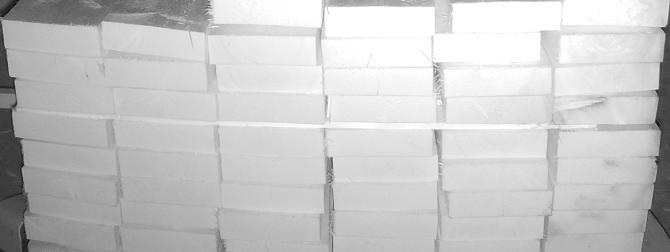Wood-Plank: (102, 22, 204, 60), (1, 19, 99, 56), (24, 212, 116, 251), (562, 29, 666, 63), (12, 109, 107, 146), (555, 91, 660, 124), (434, 32, 541, 64), (104, 57, 206, 90), (556, 62, 661, 94), (22, 168, 115, 204), (220, 210, 321, 243), (6, 50, 104, 84), (453, 2, 563, 32), (113, 88, 215, 120), (21, 140, 116, 174), (444, 160, 548, 191), (445, 66, 552, 96), (118, 150, 217, 182), (218, 92, 323, 122), (15, 80, 113, 112), (324, 38, 432, 67), (208, 36, 317, 64), (326, 8, 435, 36), (113, 122, 213, 152), (325, 67, 434, 94), (334, 182, 438, 210), (220, 128, 324, 156), (216, 65, 323, 92), (443, 132, 549, 159), (212, 0, 322, 26), (222, 156, 324, 184), (560, 129, 661, 157), (222, 184, 323, 212), (329, 96, 436, 122), (27, 194, 119, 224), (564, 0, 670, 26), (447, 96, 552, 122), (327, 130, 432, 156), (121, 178, 218, 206), (334, 212, 438, 238), (559, 157, 659, 184), (334, 156, 437, 182), (449, 192, 553, 217), (556, 184, 654, 210), (122, 202, 215, 229), (442, 216, 544, 240), (550, 210, 649, 234), (120, 230, 217, 252), (545, 232, 644, 252), (334, 238, 434, 252), (440, 240, 540, 252)
